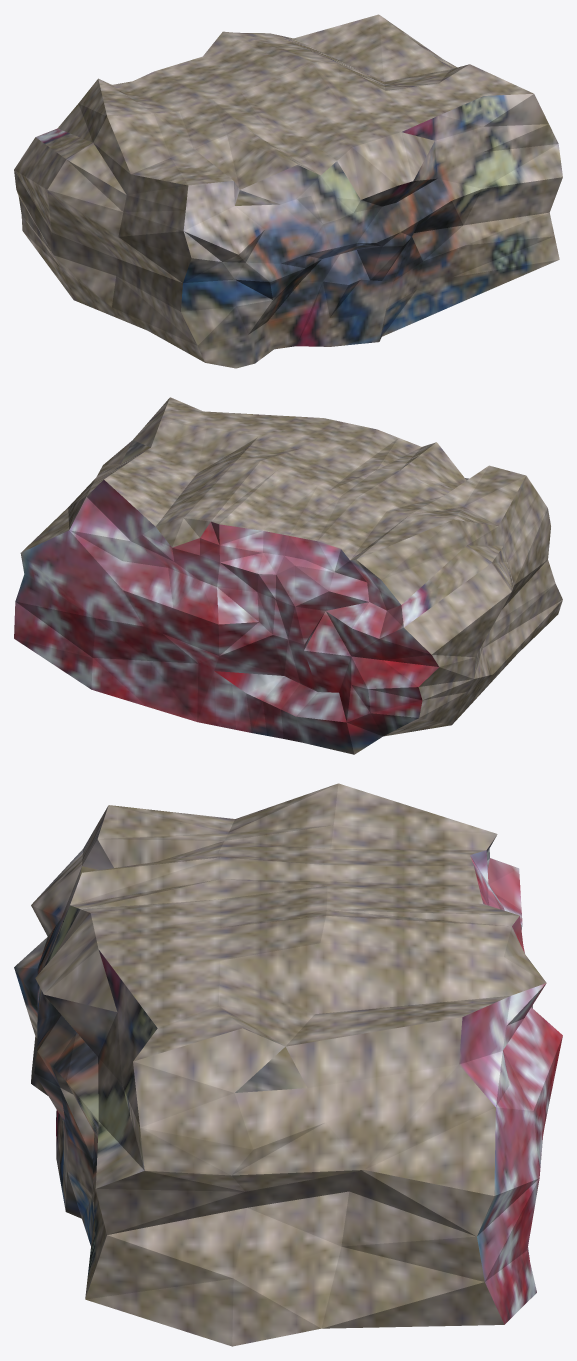
Rendered from rock_changed.fbx.
The picture shows the model from 3 angles, top to bottom: view 1: azimuth 30°, elevation 25°; view 2: azimuth 150°, elevation 25°; view 3: azimuth 270°, elevation 25°; orthographic projection. The views are drawn at different scales.
Parts seen in each view (by area): view 1: Mesh; view 2: Mesh; view 3: Mesh.
Boxes of the visible parts, left/top/right/bottom form: Mesh: left=14, top=14, right=562, bottom=368; Mesh: left=14, top=397, right=562, bottom=754; Mesh: left=14, top=783, right=562, bottom=1346.
Size of the model in its own units: 1.11 by 0.5117 by 0.7799.
Materials: 1 (1 with a texture image).
